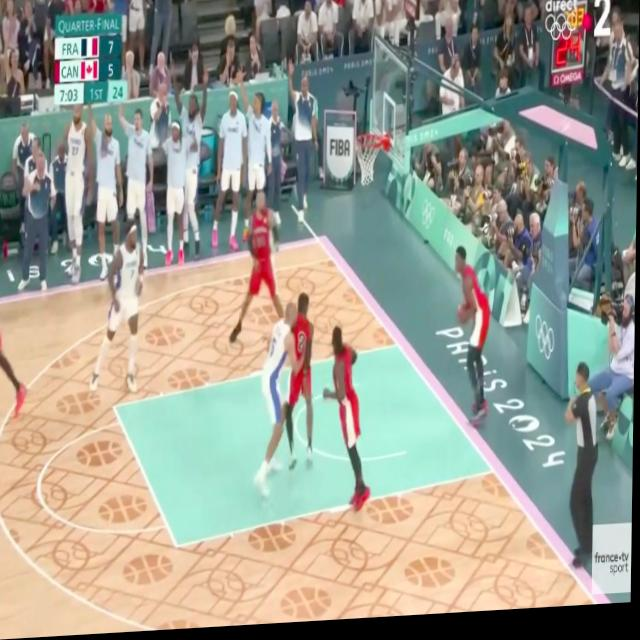ball_handler: (450, 232, 499, 442)
